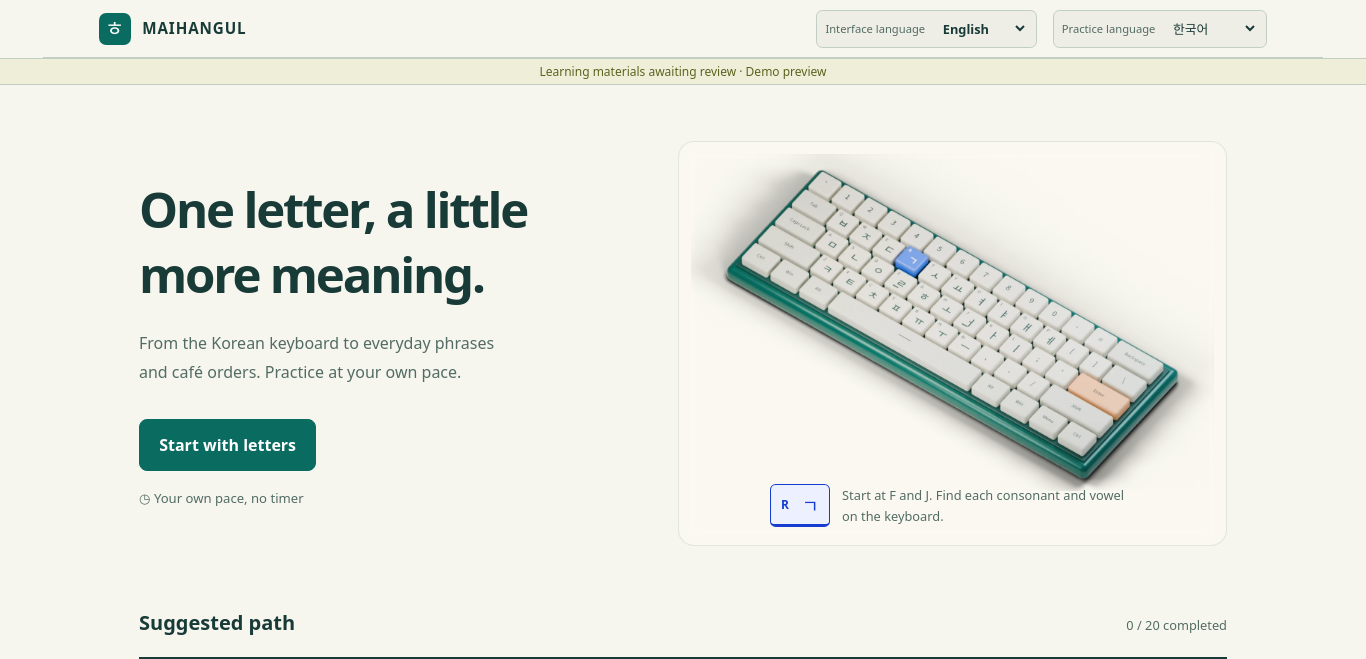
Test: guided learning preview (synthetic DOM, not OS IME acceptance) › keeps en UI independent from ko practice and completes a letter
Click the button "Start with letters" at (228, 445), box [139,419,316,471]
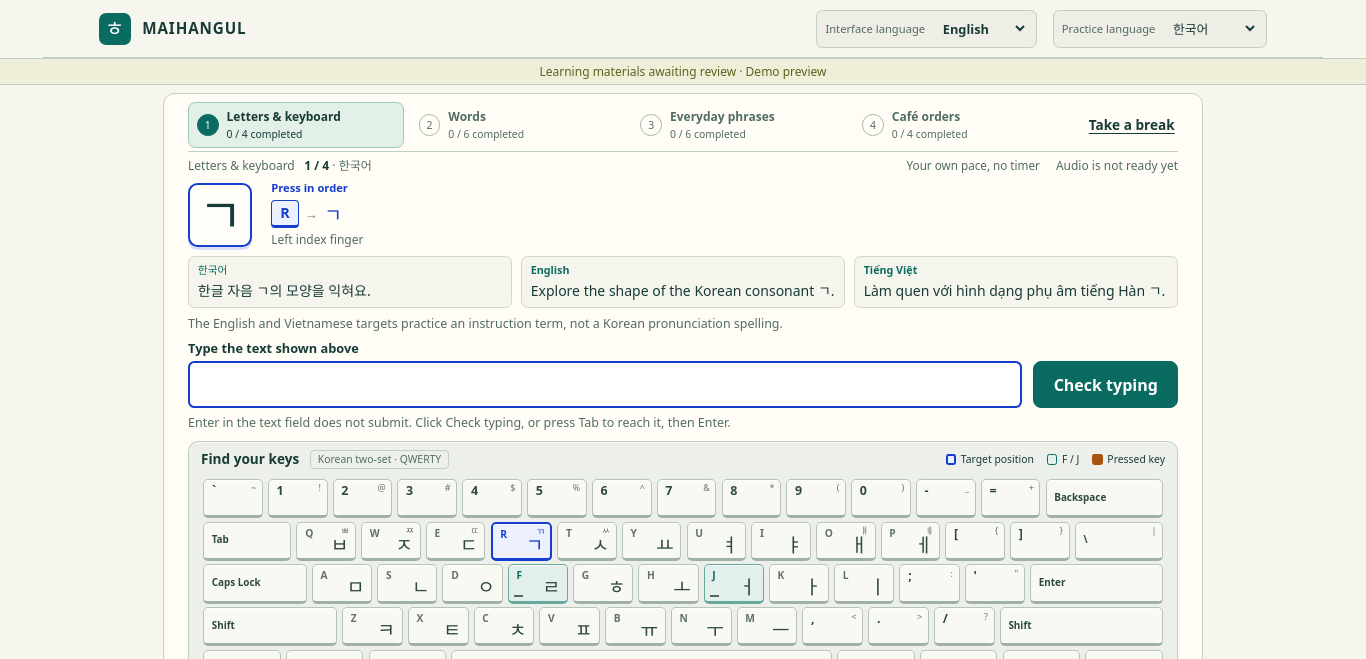
Type "ㄱ" into the field at (605, 384), box [188,361,1022,408]
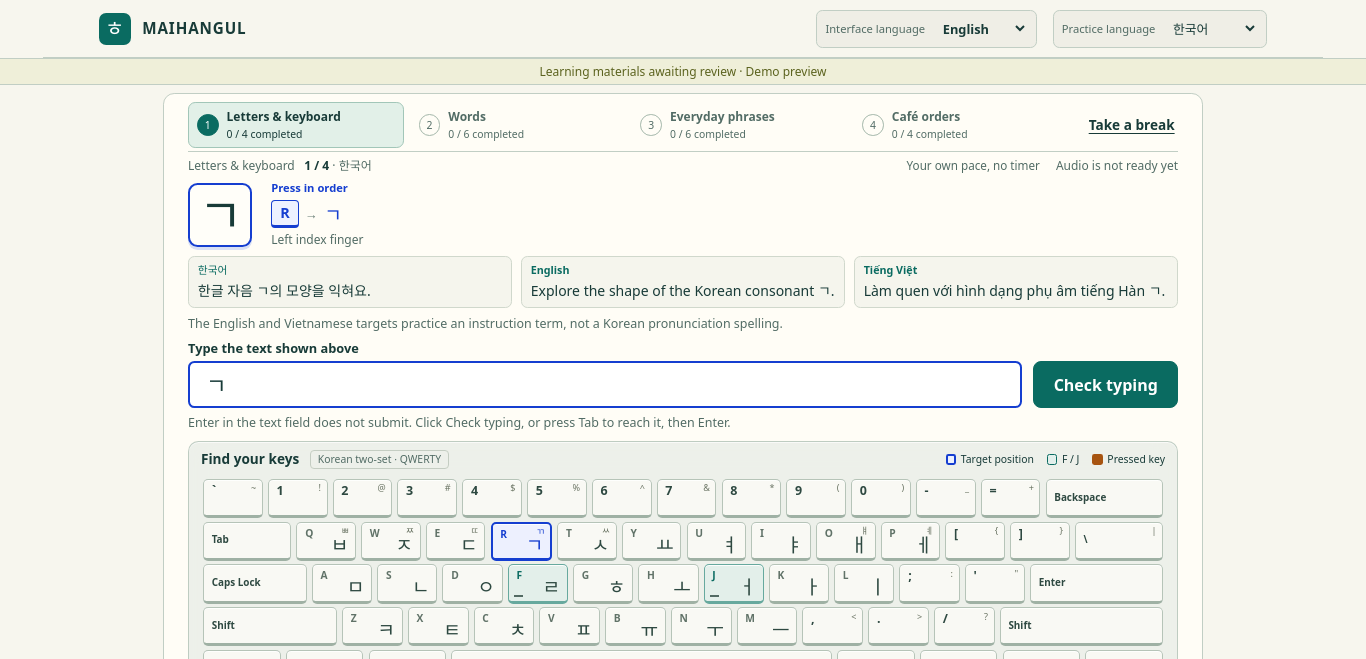
Press Enter in the field, box [188,361,1022,408]
Result: the button "Check typing" is shown
Click the button "Check typing" at (1106, 384), box [1034,361,1178,408]
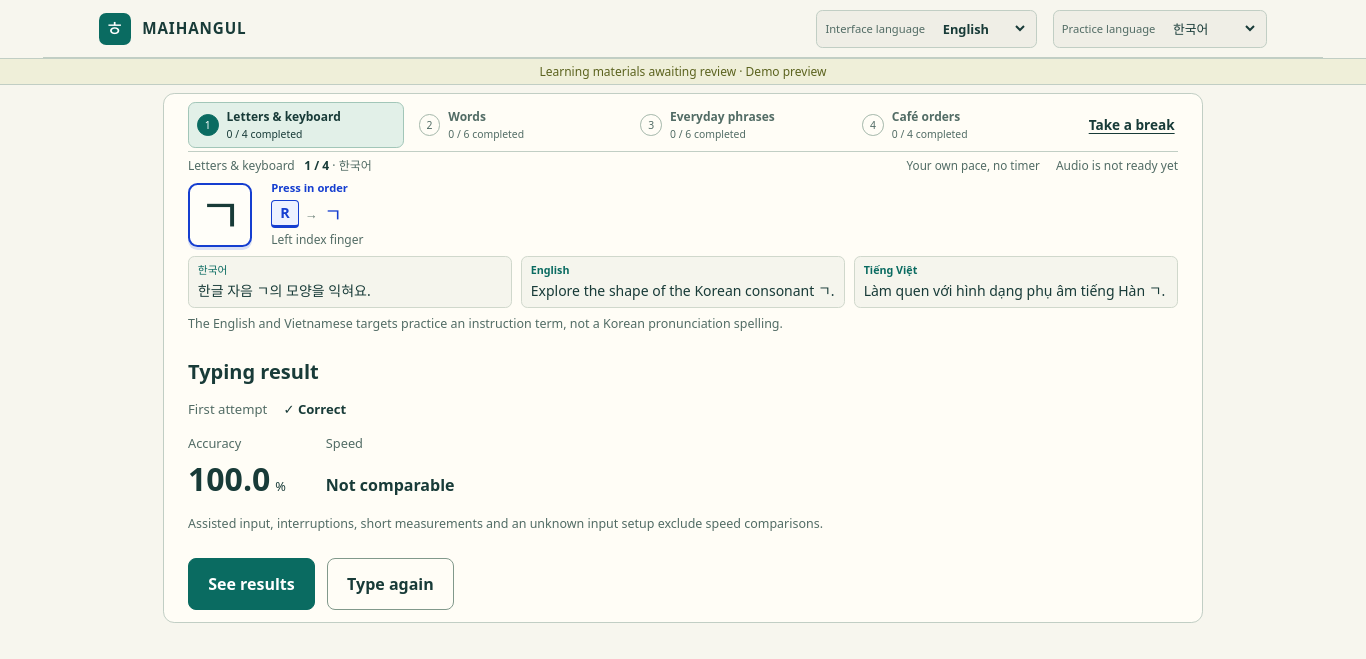
Click the button "See results" at (251, 584), box [188,558,315,610]
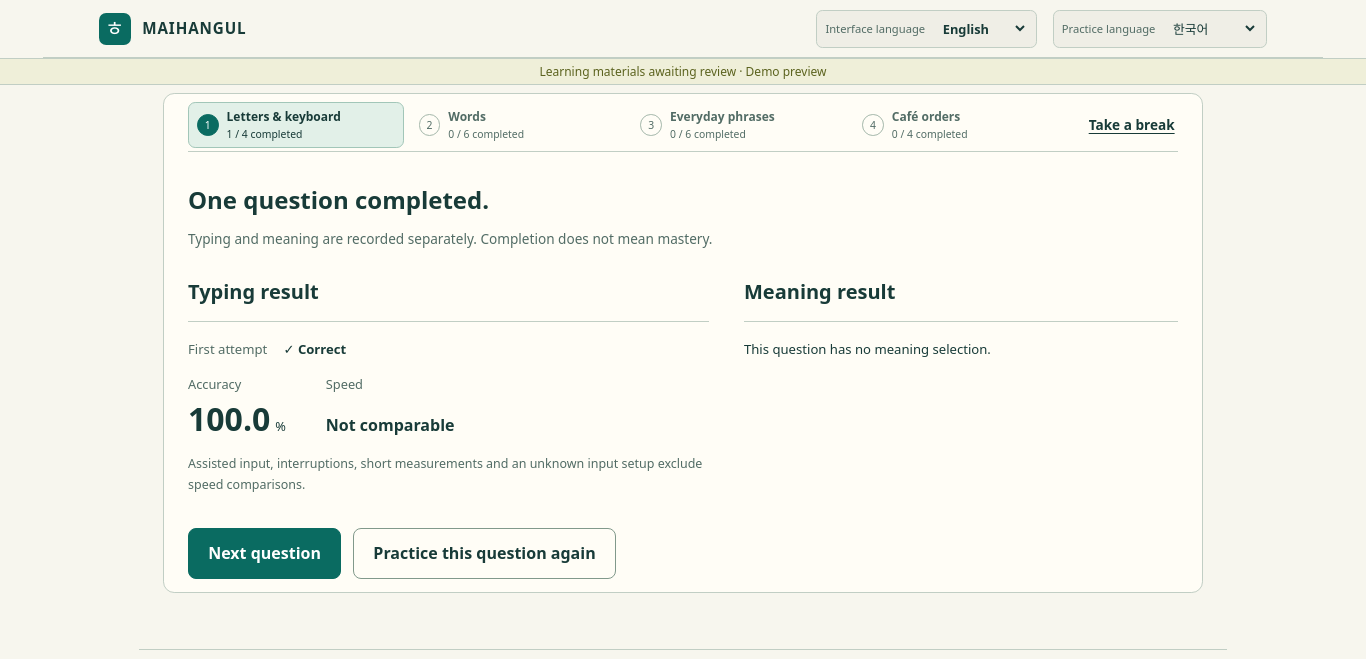
Result: the heading "One question completed." is shown at [188,183,489,216]
Result: the text "This question has no meaning selection." is shown at [744,340,991,358]
